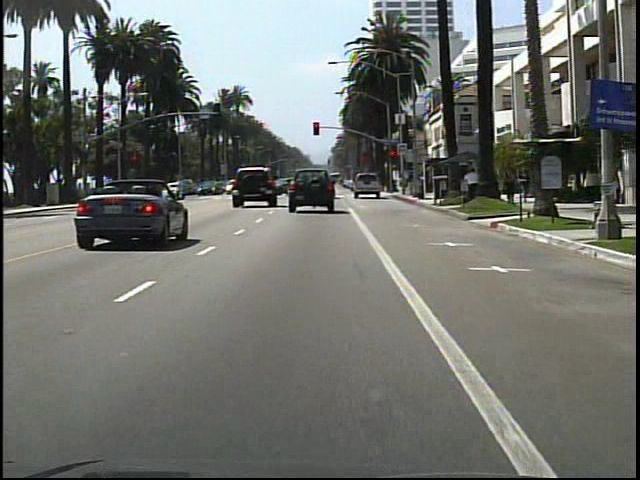person: (462, 165, 483, 204), (501, 163, 516, 208)
